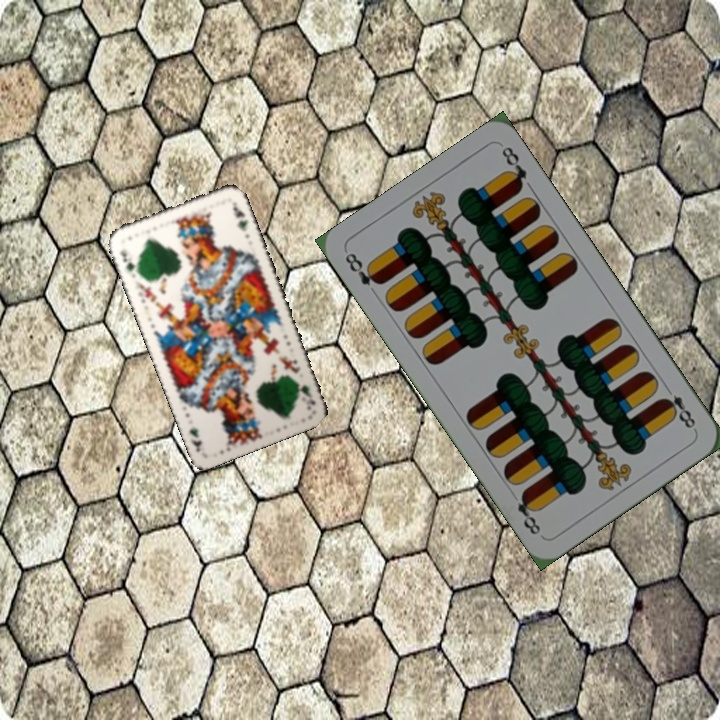E8: (658, 381, 699, 433), (341, 248, 386, 289)
GK: (293, 376, 318, 412), (116, 247, 142, 277)
